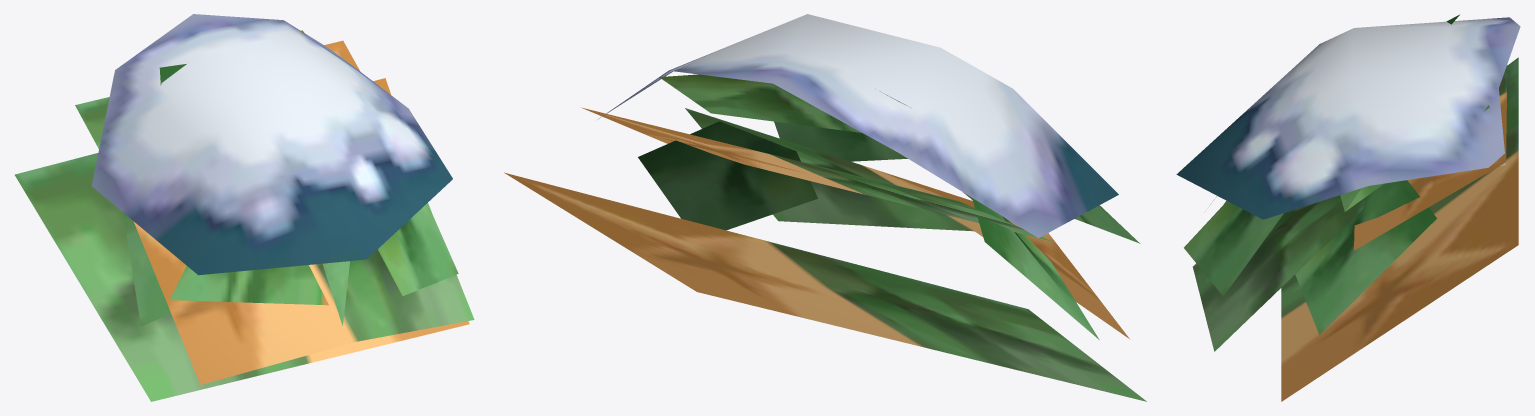
The model's file is fg_bushE_2_s.dae.
3 renders of one model, left to right at view 1: azimuth 30°, elevation 25°; view 2: azimuth 150°, elevation 25°; view 3: azimuth 270°, elevation 25°, orthographic. The views are drawn at different scales.
Parts seen in each view (by area): view 1: fg_bushE_2_s; view 2: fg_bushE_2_s; view 3: fg_bushE_2_s.
Part boxes in pixels (box(x1,y1,x2,y2)): fg_bushE_2_s: box(15, 14, 474, 401); fg_bushE_2_s: box(504, 14, 1146, 401); fg_bushE_2_s: box(1176, 14, 1520, 401).
Bounding box in the file's own units: 50.84 × 35.23 × 38.03.
1 material, 1 textured.
